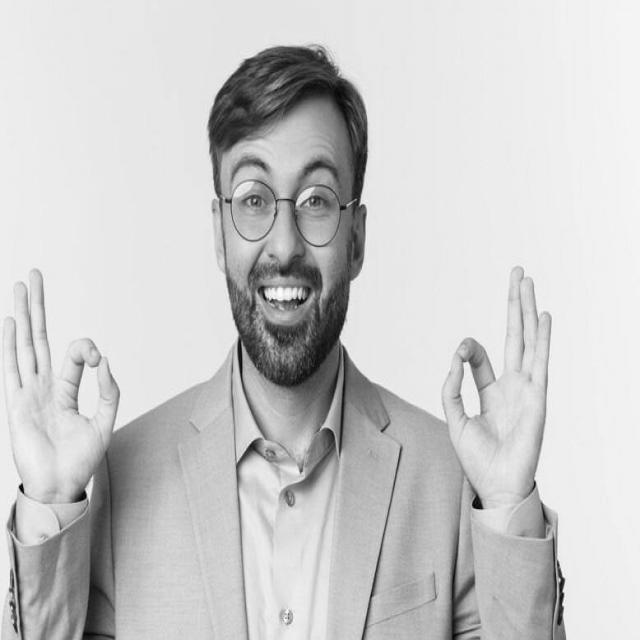perfect: (0, 255, 125, 504)
